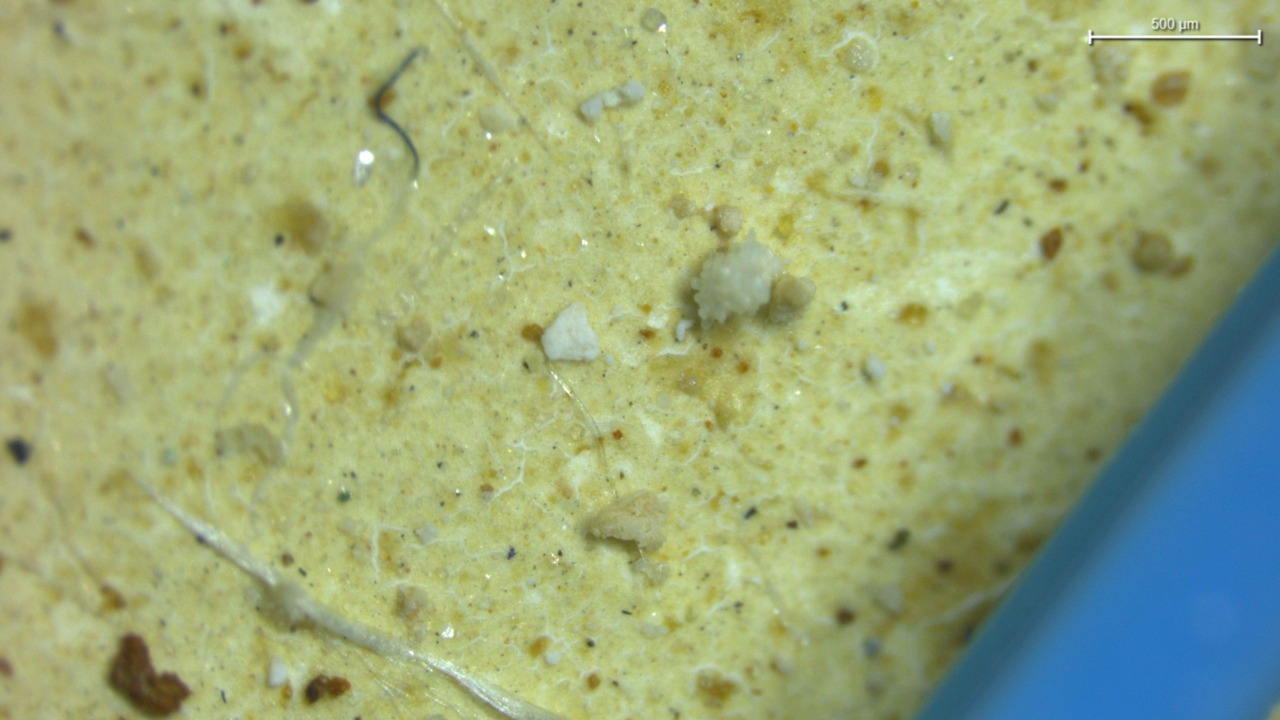microplastic_fragment: (686, 205, 821, 340), (587, 489, 669, 553), (541, 307, 604, 364), (615, 78, 645, 105), (579, 94, 610, 120), (602, 91, 621, 107)
